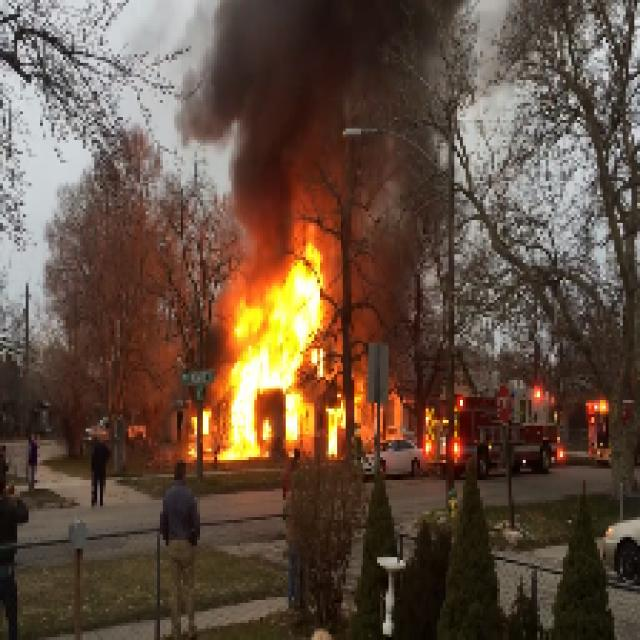fire: (240, 250, 317, 450)
smoke: (234, 10, 376, 238)
